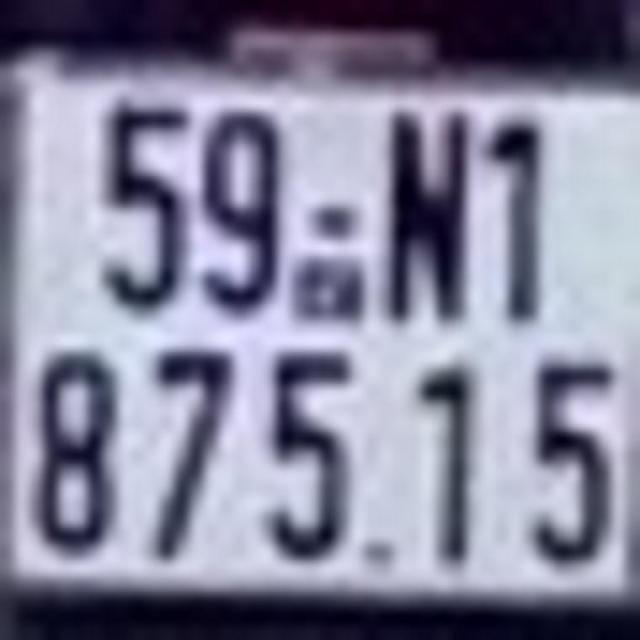1: (498, 104, 545, 319), (424, 347, 468, 556)
5: (534, 361, 618, 562), (274, 350, 352, 566), (114, 102, 184, 308)
7: (149, 342, 232, 564)
8: (42, 348, 117, 543)
9: (206, 97, 270, 314)
N: (386, 105, 464, 320)
